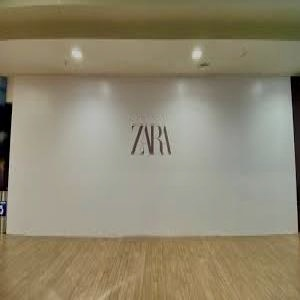zara: (114, 60, 240, 181)
